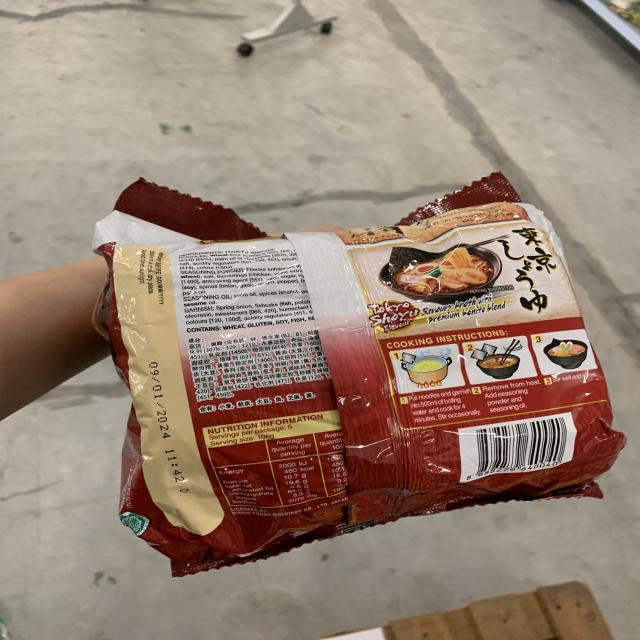object_name: (110, 228, 603, 509)
